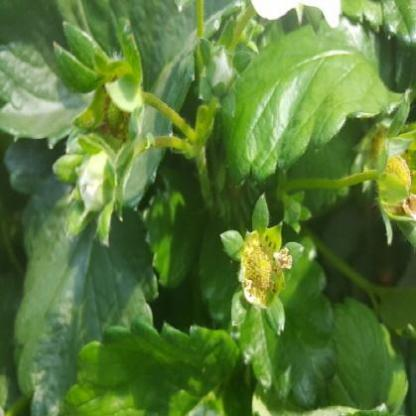Strawberry_Blossom_Blight: (237, 232, 294, 306)
